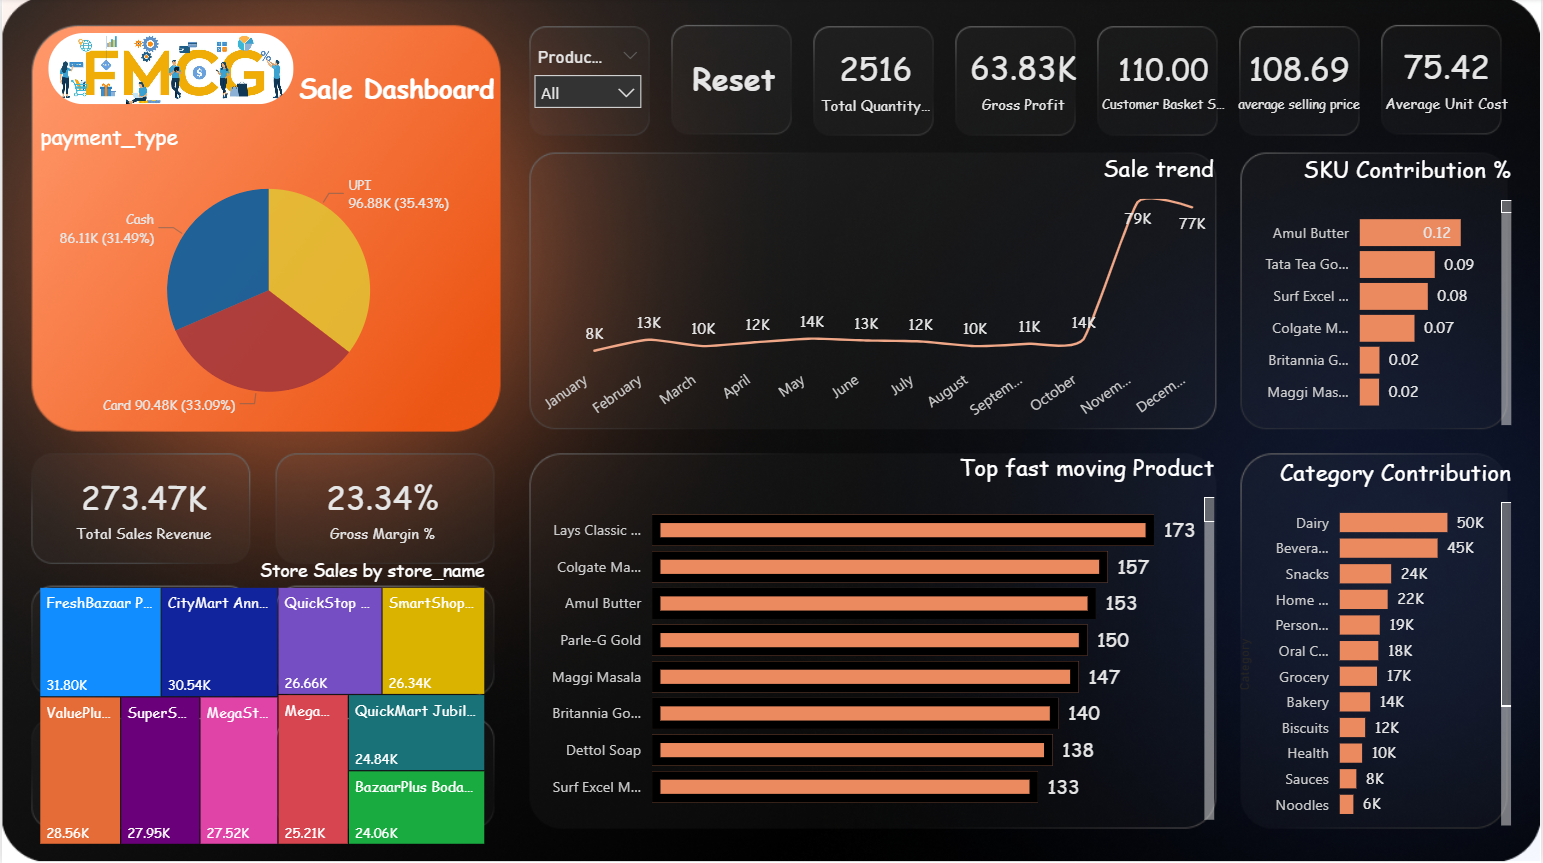

Layout of this report page (visuals, bound fields, positions):
{"tool":"powerbi","page":{"name":"sale Dashboard","canvas":[1280,720],"ordinal":0},"visuals":[{"type":"card","fields":{"Values":["Customer_Master.Total Sales Revenue"]},"box":[27.8,376.7,180,96.7],"z":0},{"type":"card","fields":{"Values":["Customer_Master.Total Quantity Sold"]},"box":[675.6,19.8,102.3,96.5],"z":1000},{"type":"card","fields":{"Values":["Customer_Master.Gross Profit"]},"box":[788.4,24.4,120.9,87.2],"z":2000},{"type":"card","fields":{"Values":["Customer_Master.Gross Margin %"]},"box":[226.7,376.7,180,96.7],"z":3000},{"type":"card","fields":{"Values":["Customer_Master.average selling price"]},"box":[1022.1,22.1,114,91.9],"z":4000},{"type":"card","fields":{"Values":["Customer_Master.average unit cost"]},"box":[1143,26.7,116.3,79.1],"z":5000},{"type":"card","fields":{"Values":["Customer_Master.Customer Basket                                                                                       Si"]},"box":[909.3,15.1,112.8,105.8],"z":6000},{"type":"lineChart","title":"     Sale trend","fields":{"Y":["Customer_Master.Total Sales Revenue"],"Category":["Sales_Transactions.sale_date.Variation.Date Hierarchy.Year","Sales_Transactions.sale_date.Variation.Date Hierarchy.Month"]},"box":[440.7,127.9,572.1,232.6],"z":7000},{"type":"barChart","title":"Top fast moving Product","fields":{"Category":["Products_Master.Product_name"],"Y":["Customer_Master.Total Quantity Sold"]},"box":[441.1,376.7,572.2,312.2],"z":8000},{"type":"clusteredBarChart","title":"Category Contribution","fields":{"Category":["Products_Master.Category"],"Y":["Customer_Master.Total Sales Revenue"]},"box":[1022.6,380.4,237,312.8],"z":9000},{"type":"barChart","title":"SKU Contribution %","fields":{"Category":["Products_Master.Product_name"],"Y":["Customer_Master.SKU Contribution %"]},"box":[1034.3,128.6,225.7,231.4],"z":10000},{"type":"actionButton","box":[558.3,43.2,100.9,44.4],"z":11000},{"type":"slicer","fields":{"Values":["Products_Master.Product_name"]},"box":[432.3,34.8,109.3,67.2],"z":12000},{"type":"pieChart","title":"payment_type","fields":{"Category":["Sales_Transactions.payment_type"],"Y":["Customer_Master.Total Sales Revenue"]},"box":[27,102.9,389.7,256.7],"z":13000},{"type":"image","box":[38.4,28.8,204.1,58.8],"z":14000},{"type":"textbox","box":[242.1,55.1,174.6,46.8],"z":15000},{"type":"treemap","fields":{"Values":["Customer_Master.Store Sales"],"Group":["Store_Master.store_name"]},"box":[27.5,465.7,379.1,242.9],"z":16000}]}

Visuals, with their boxes in screenshot pixels (x1, y1, x2, y2), scaled from the page's 1280x720 canvas onto the 1543x863 screenshot:
card - Customer_Master.Total Sales Revenue: (34, 452, 250, 567)
card - Customer_Master.Total Quantity Sold: (814, 24, 938, 139)
card - Customer_Master.Gross Profit: (950, 29, 1096, 134)
card - Customer_Master.Gross Margin %: (273, 452, 490, 567)
card - Customer_Master.average selling price: (1232, 26, 1370, 137)
card - Customer_Master.average unit cost: (1378, 32, 1518, 127)
card - Customer_Master.Customer Basket                                                                                       Si: (1096, 18, 1232, 145)
"     Sale trend" lineChart: (531, 153, 1221, 432)
"Top fast moving Product" barChart: (532, 452, 1222, 826)
"Category Contribution" clusteredBarChart: (1233, 456, 1518, 831)
"SKU Contribution %" barChart: (1247, 154, 1519, 432)
actionButton: (673, 52, 795, 105)
slicer - Products_Master.Product_name: (521, 42, 653, 122)
"payment_type" pieChart: (33, 123, 502, 431)
image: (46, 35, 292, 105)
textbox: (292, 66, 502, 122)
treemap - Customer_Master.Store Sales x Store_Master.store_name: (33, 558, 490, 849)
